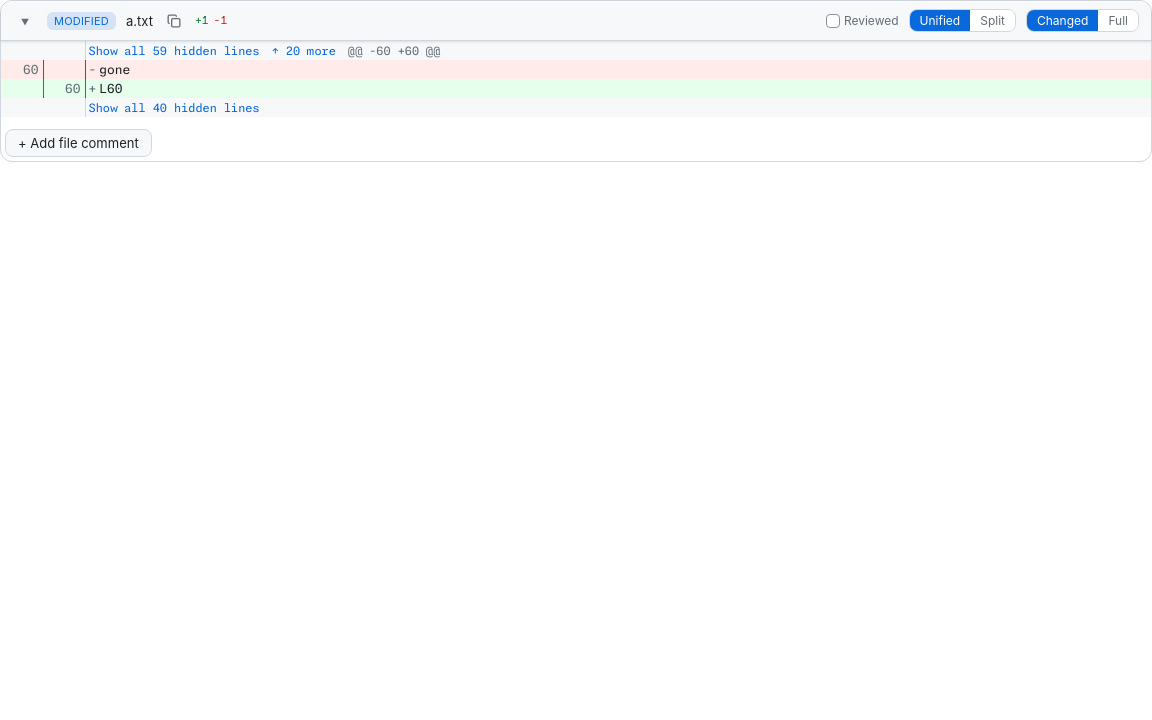
Test: a hidden region expands a step at a time, from the end nearest its hunk
This screenshot has width=1152, height=720.
Expected: the button "Show all 59 hidden lines" is shown, [88,41,260,60]
Expected: the button "Show all 40 hidden lines" is shown, [88,98,260,117]
Click the button "↑ 20 more" at (304, 50), box [272,41,336,60]
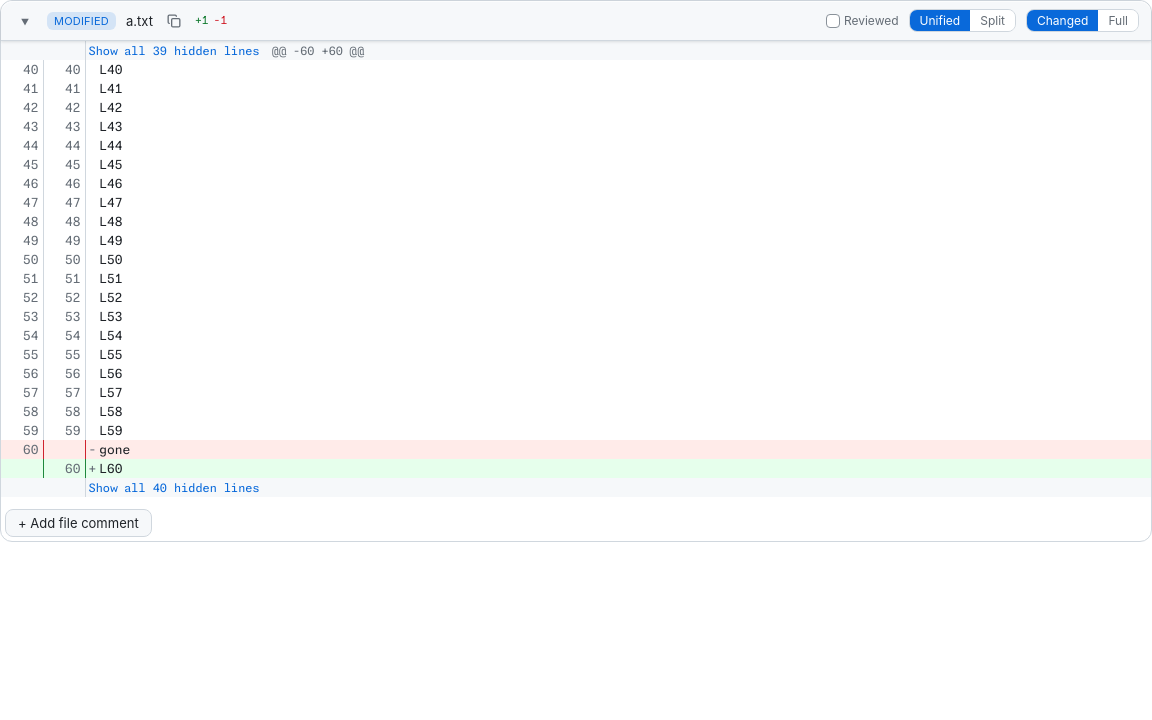
Now the text "L59" is shown, box [85,421,1151,440]
Now the button "Show all 39 hidden lines" is shown, box [88,41,260,60]
Now the button "↑ 20 more" is gone
